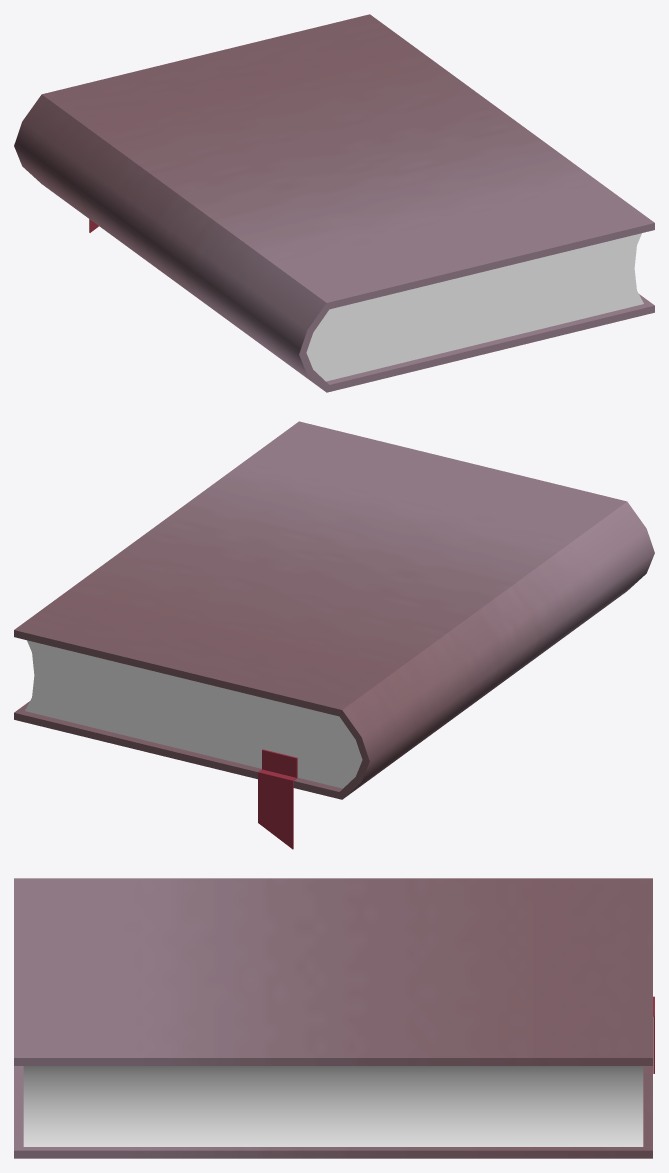
Rendered from book3.fbx.
3 views of the same model, one above another, from view 1: azimuth 30°, elevation 25°; view 2: azimuth 150°, elevation 25°; view 3: azimuth 270°, elevation 25° (orthographic). The views are drawn at different scales.
Parts seen in each view (by area): view 1: book3; view 2: book3; view 3: book3.
Part boxes in pixels (x1,y1,x2,y2): book3: [14, 14, 654, 392]; book3: [14, 421, 654, 849]; book3: [14, 878, 654, 1158].
Bounding box in the file's own units: 18.01 × 7.29 × 25.06.
